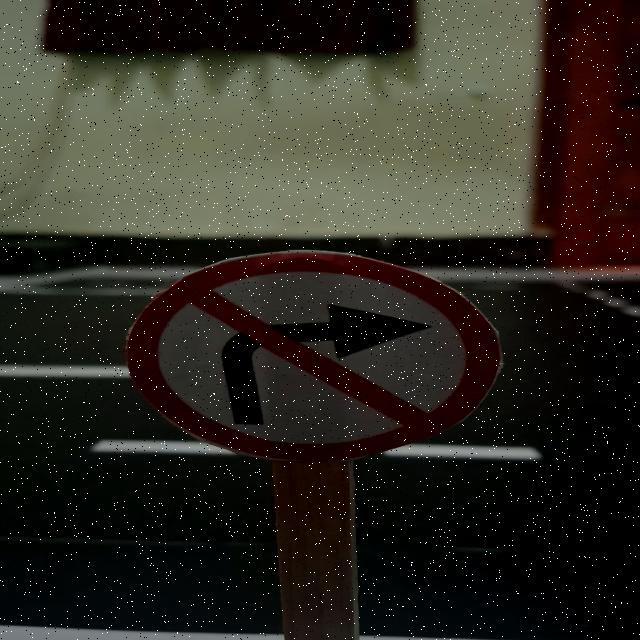Dilarang Belok Kanan: (127, 248, 506, 463)
